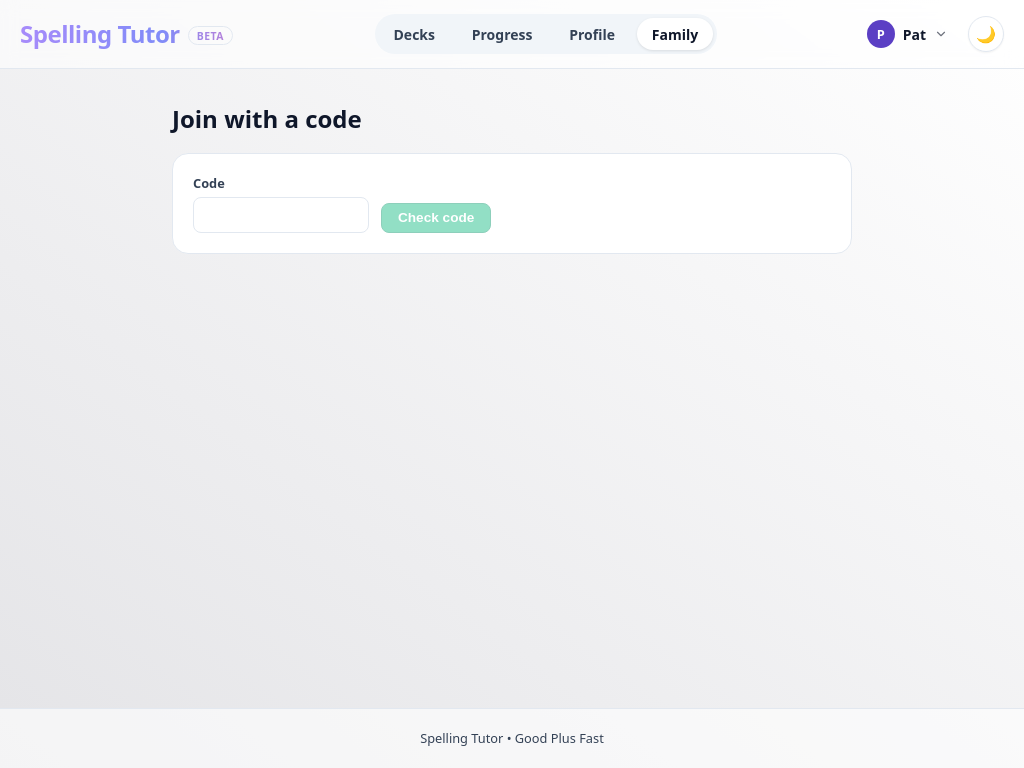
Join page › checks a typed code, explains it, and accepts it
Type "abcd2345" into the field labelled "Code". click: (281, 215)
box: [193,197,369,233]
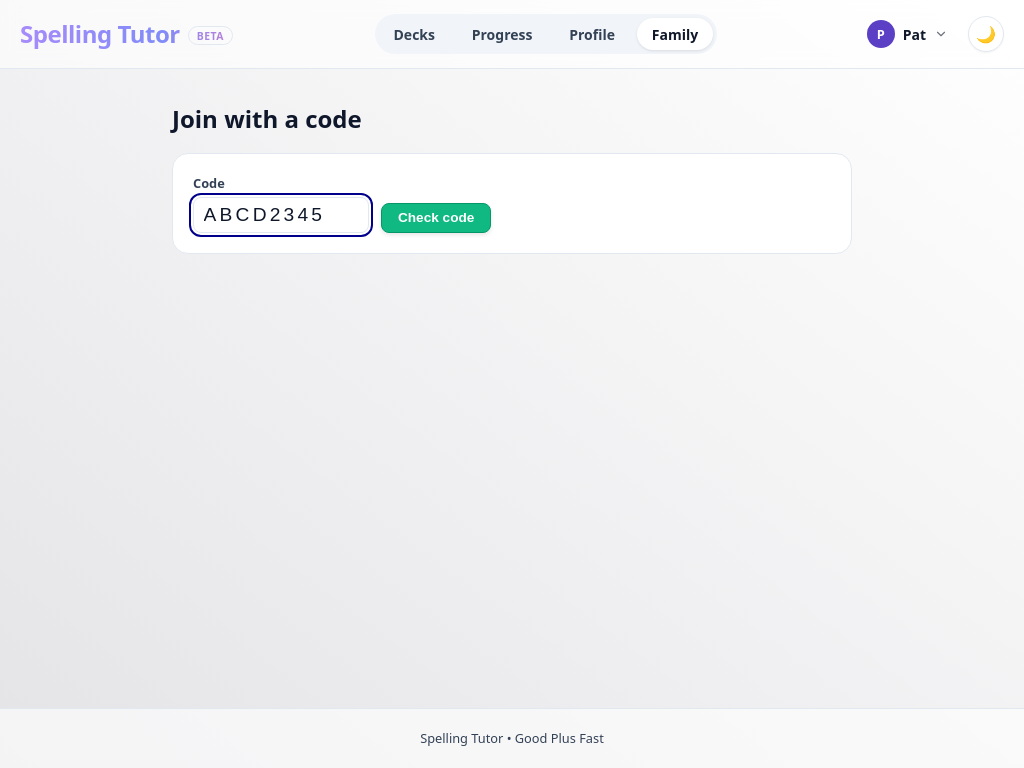
Click the button "Check code". click: (436, 218)
box: [381,203,491,233]
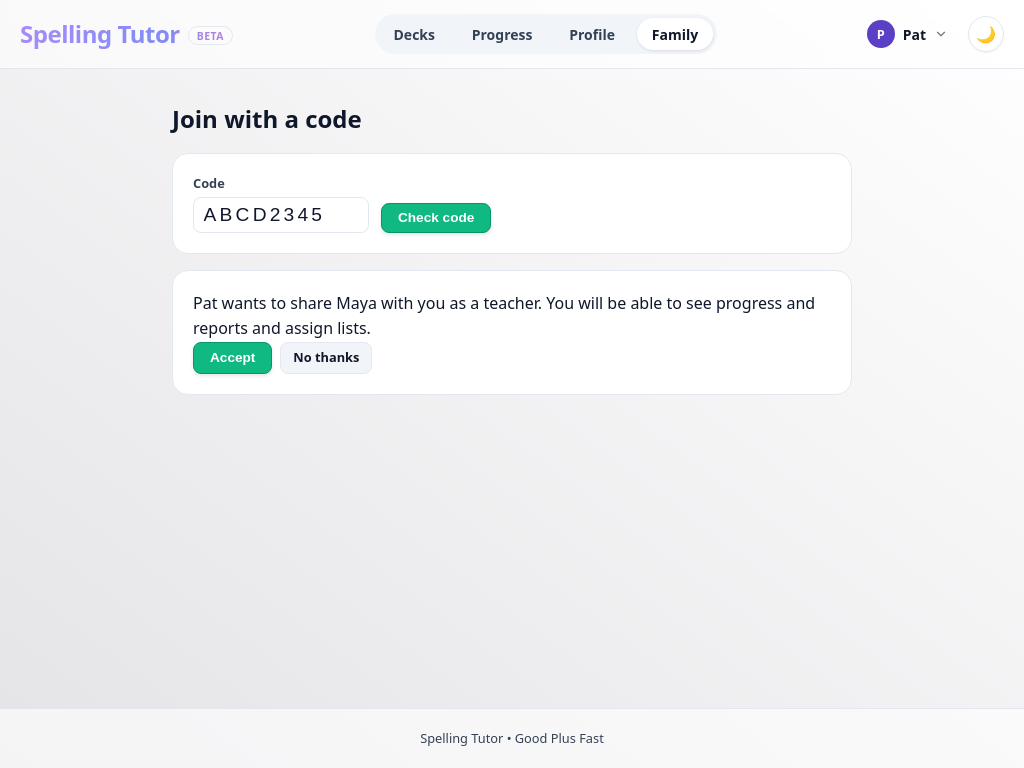
Now the text "Pat wants to share Maya with you as a teacher" is shown, box [193,292,815,339]
Click the button "Accept". click: (233, 358)
box: [193,342,272,374]
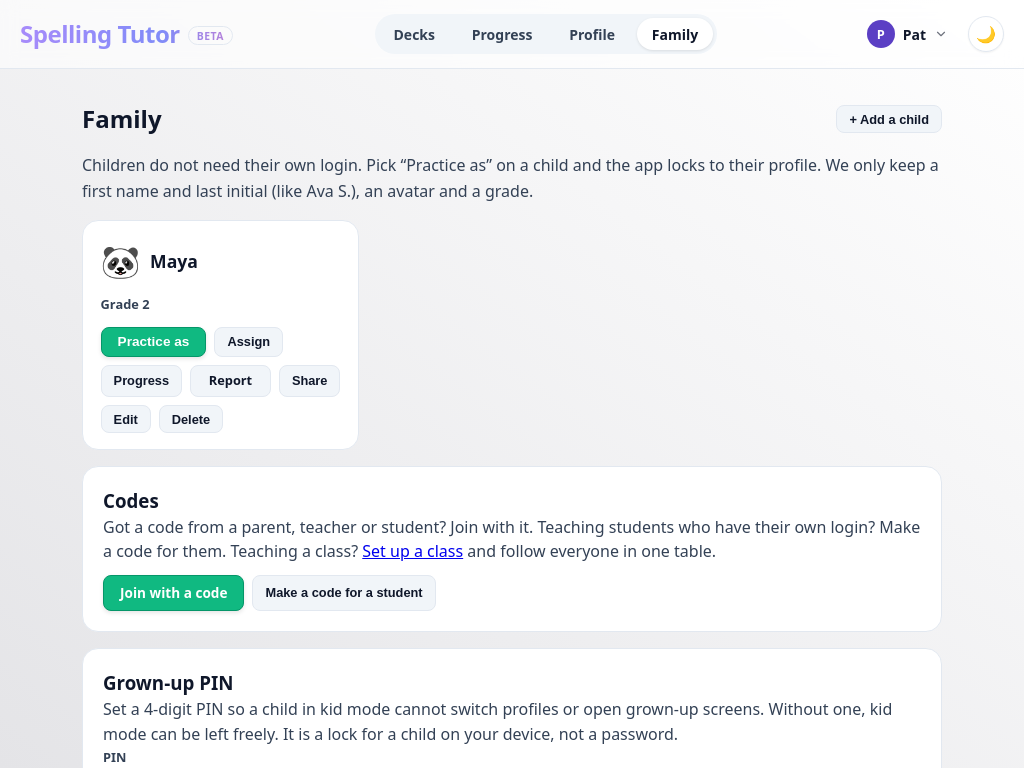
Now the heading "Family" is shown, box [82,101,162,137]
